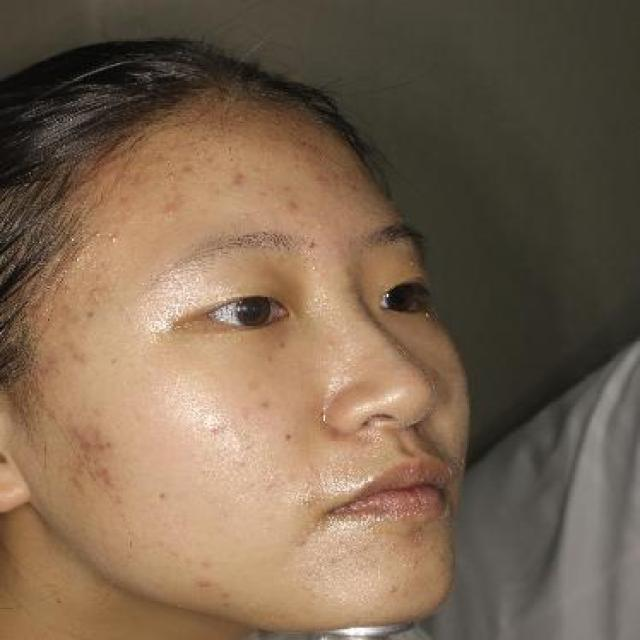blackheads: (257, 398, 277, 414)
dark spot: (231, 166, 253, 188), (284, 194, 305, 214), (75, 436, 96, 452), (178, 162, 198, 178), (91, 442, 111, 456), (65, 424, 84, 438), (103, 438, 118, 449)
papules: (100, 474, 116, 489)
pustules: (193, 577, 214, 594), (108, 231, 126, 243)
whiteheads: (207, 421, 228, 437), (324, 338, 337, 351), (277, 563, 291, 574), (304, 462, 316, 471)
